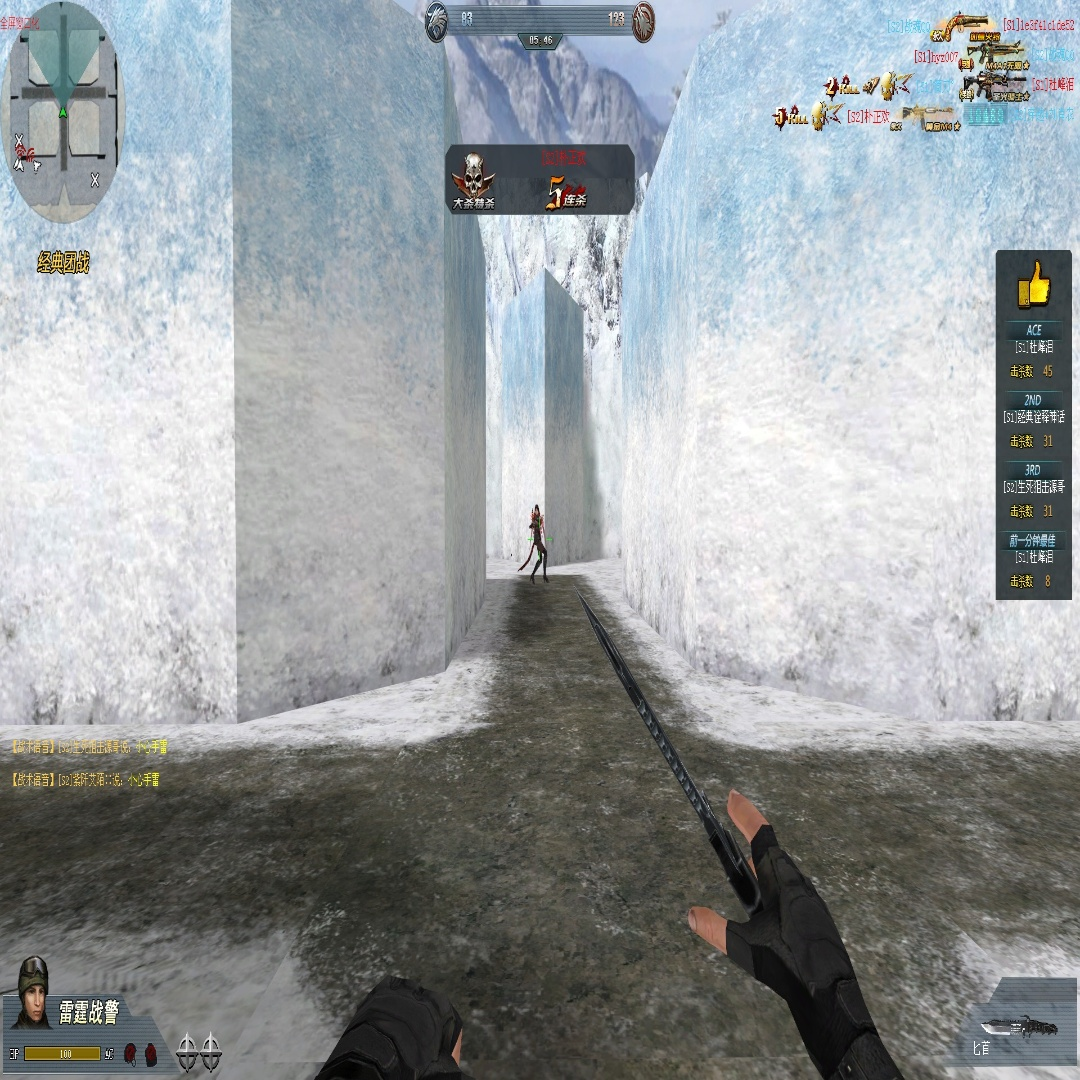head: (534, 504, 540, 516)
t: (530, 503, 547, 586)
